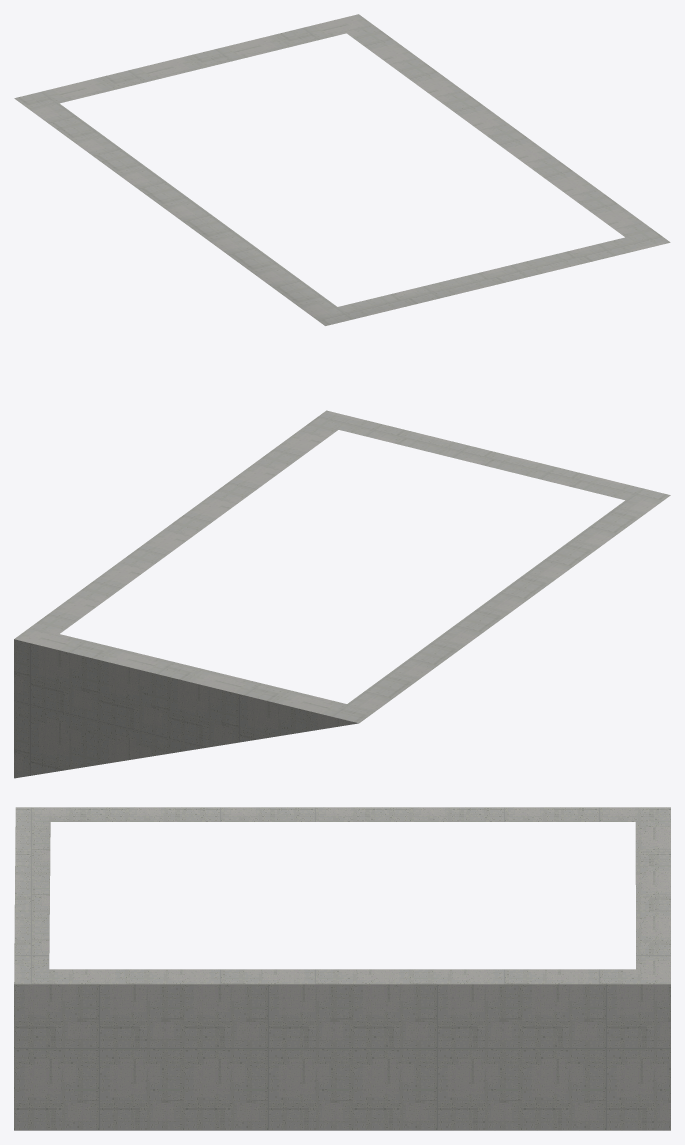
File: kd_stage_1364a3_11_1_bounded.glb
The picture shows the model from 3 angles, top to bottom: view 1: azimuth 30°, elevation 25°; view 2: azimuth 150°, elevation 25°; view 3: azimuth 270°, elevation 25°; orthographic projection. The views are drawn at different scales.
Visible parts, largest first — view 1: kd_stage_1364a3_11_1_bounded; view 2: kd_stage_1364a3_11_1_bounded; view 3: kd_stage_1364a3_11_1_bounded.
Part boxes in pixels (x1=…): kd_stage_1364a3_11_1_bounded: x1=14, y1=14, x2=670, y2=325; kd_stage_1364a3_11_1_bounded: x1=14, y1=410, x2=670, y2=778; kd_stage_1364a3_11_1_bounded: x1=14, y1=807, x2=670, y2=1130.
Size of the model in its own units: 3.58 by 1.38 by 5.62.
Materials: 1 (1 with a texture image).
